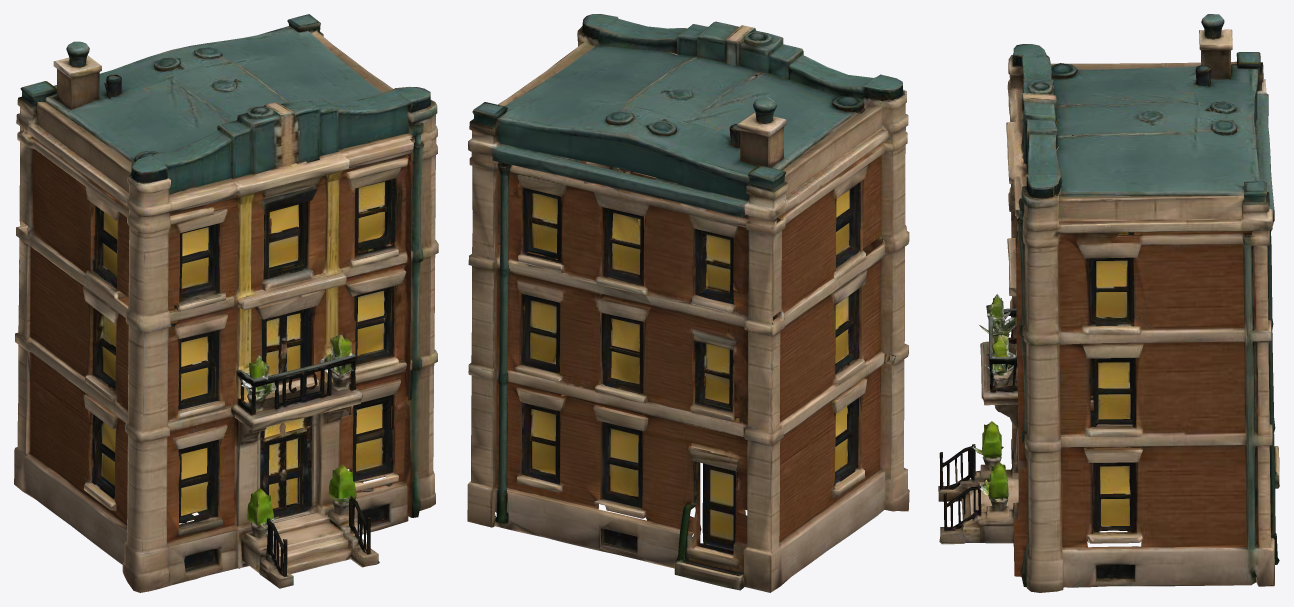
3 renders of one model, left to right at view 1: azimuth 30°, elevation 25°; view 2: azimuth 150°, elevation 25°; view 3: azimuth 270°, elevation 25°, orthographic. The views are drawn at different scales.
Parts seen in each view (by area): view 1: expansion__villa_3__native_mobile; view 2: expansion__villa_3__native_mobile; view 3: expansion__villa_3__native_mobile.
Boxes of the visible parts, x1=… form: expansion__villa_3__native_mobile: x1=14, y1=14, x2=438, y2=592; expansion__villa_3__native_mobile: x1=467, y1=14, x2=909, y2=592; expansion__villa_3__native_mobile: x1=938, y1=14, x2=1279, y2=592.
Size of the model in its own units: 0.7022 by 1 by 0.6793.
Materials: 1 (1 with a texture image).
